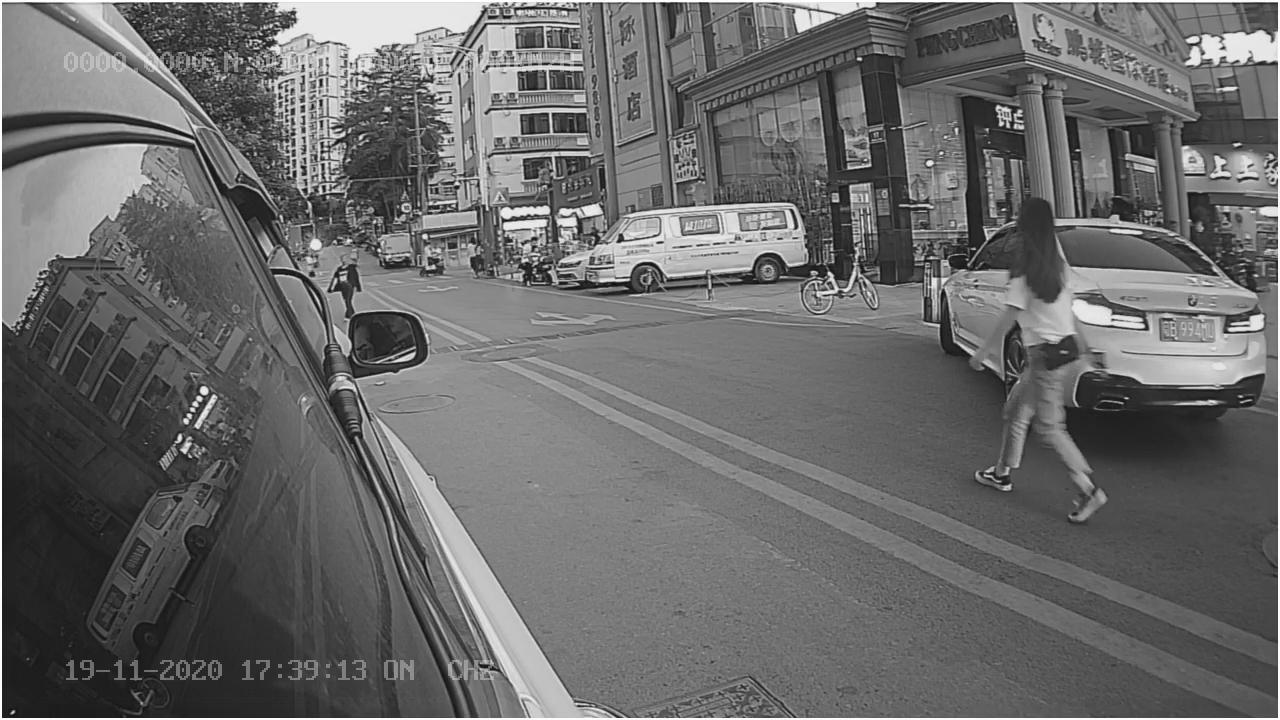person: (969, 198, 1108, 522)
